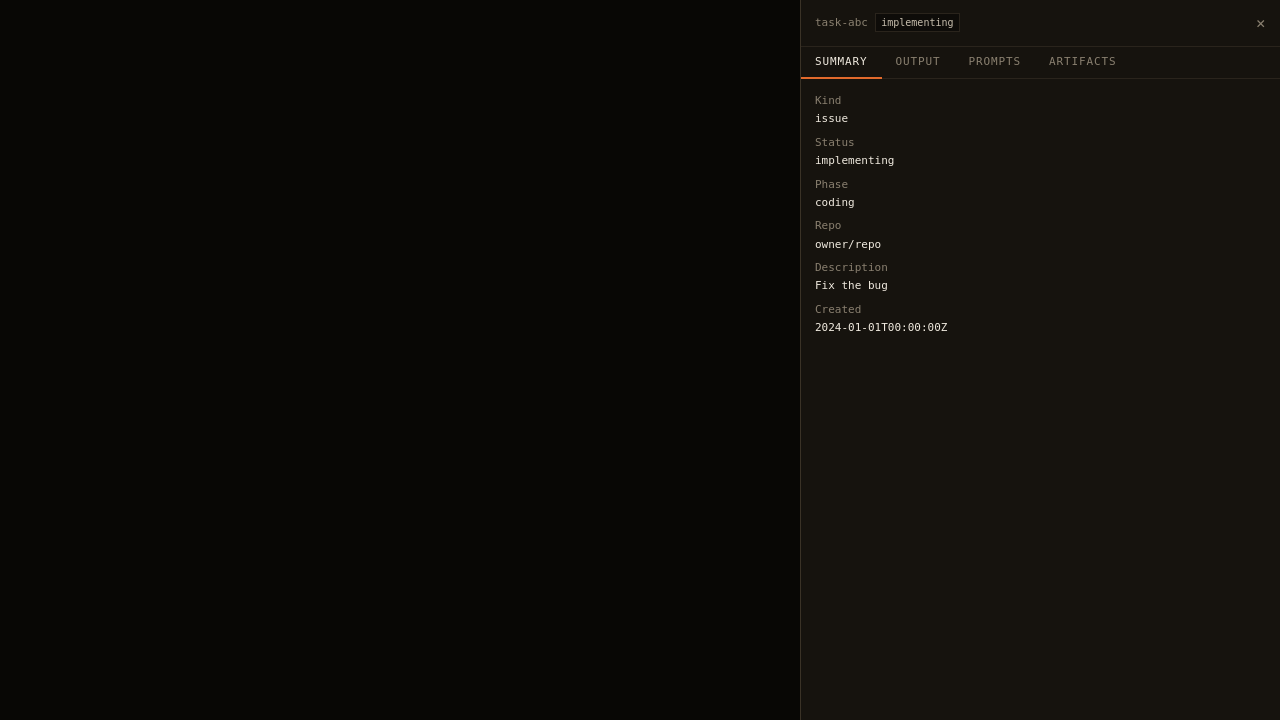
Test: TaskDetailSlideover › fetches and renders prompt history in chronological order for the prompts tab
Click the button "prompts". click: x=995, y=63
box: x1=954 y1=46 x2=1035 y2=79
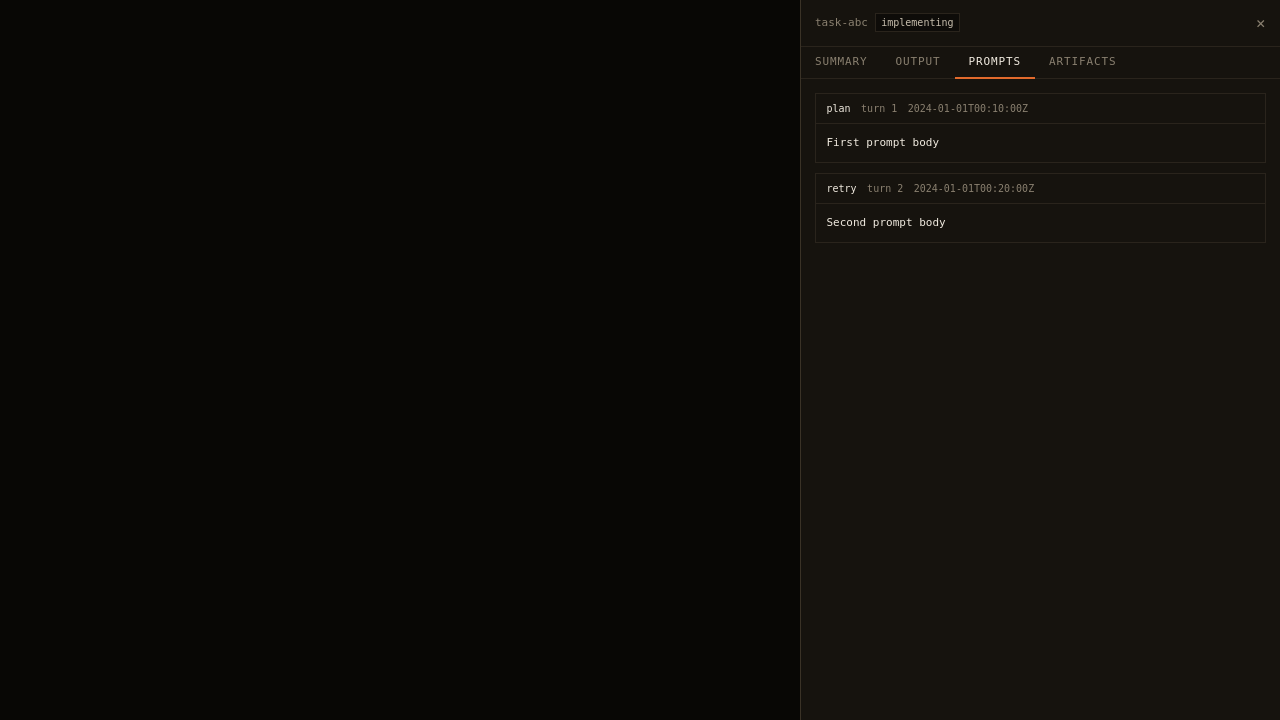
Check: the text with test id "prompt-body-" reads "First prompt body", box x1=826 y1=136 x2=939 y2=148
Check: the text with test id "prompt-body-" reads "Second prompt body", box x1=826 y1=216 x2=946 y2=228
Check: the text "plan" is shown, box x1=826 y1=101 x2=851 y2=116
